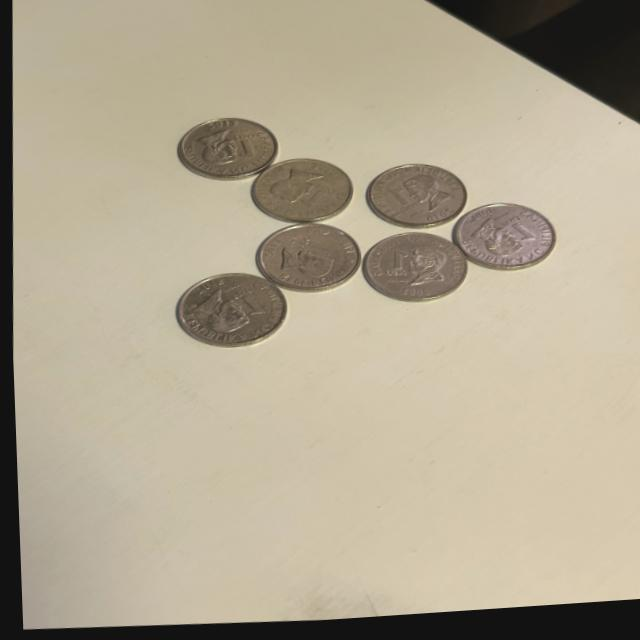1_Old_Front: (227, 286, 270, 332), (375, 189, 416, 222), (290, 236, 340, 262), (296, 186, 334, 219), (375, 253, 405, 288), (227, 131, 258, 164), (506, 225, 539, 254)
